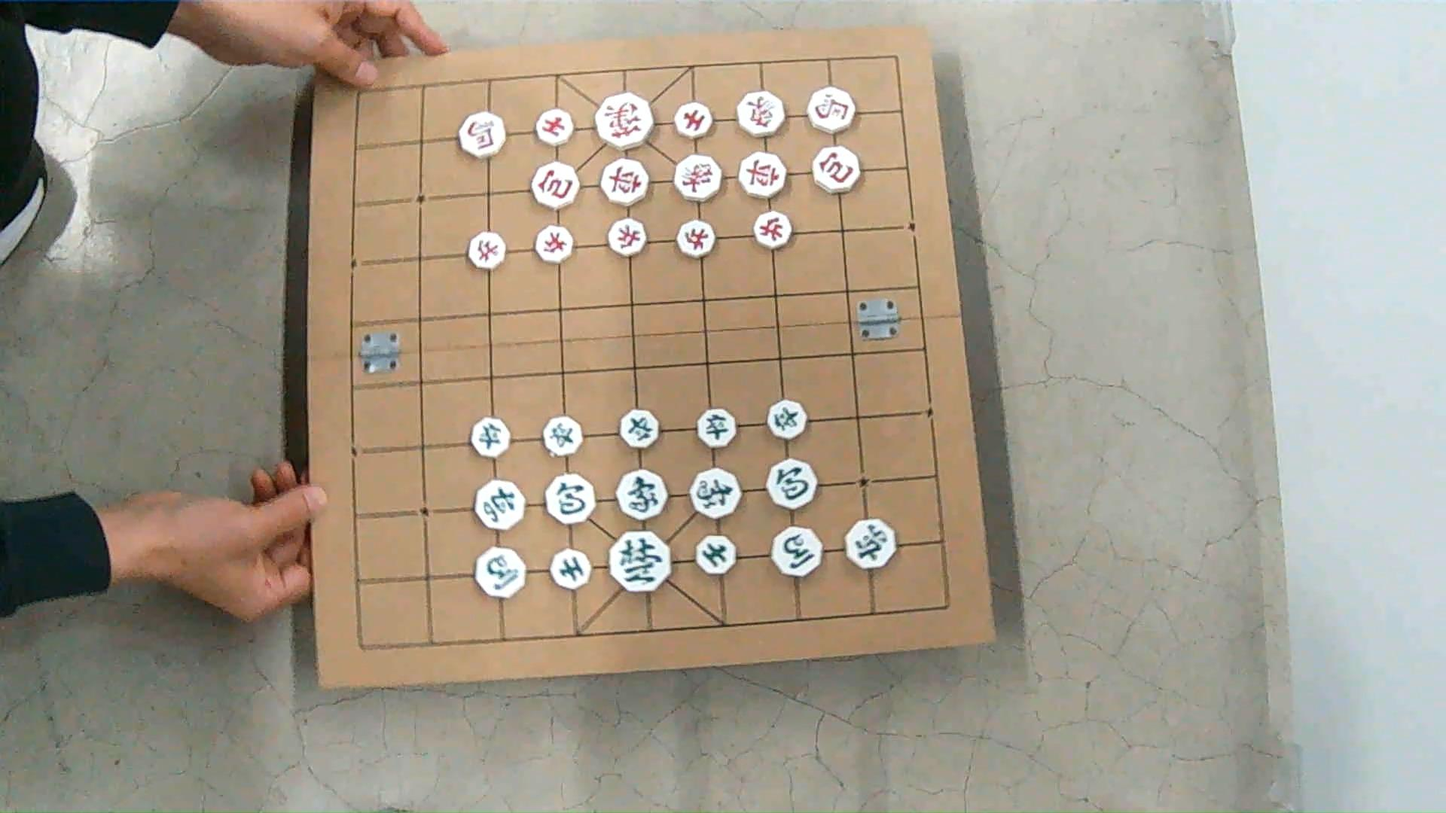cha_green: (845, 519, 895, 569), (474, 480, 524, 529)
cha_red: (600, 159, 648, 205), (739, 152, 786, 198)
jol_green: (471, 417, 510, 458), (768, 400, 806, 440), (543, 416, 581, 456), (697, 409, 735, 448), (620, 409, 658, 448)
jol_red: (754, 211, 792, 248), (467, 232, 505, 269), (535, 226, 572, 263), (609, 218, 645, 256), (678, 221, 714, 257)
ma_green: (475, 547, 524, 597), (772, 528, 821, 577)
ma_red: (808, 87, 855, 132), (459, 113, 505, 158)
po_green: (767, 459, 817, 509), (546, 474, 594, 524)
po_red: (813, 146, 859, 193), (532, 163, 578, 209)
sa_green: (551, 550, 590, 589), (697, 535, 735, 574)
sa_red: (535, 109, 573, 146), (675, 102, 712, 139)
sang_green: (690, 468, 740, 519), (616, 470, 667, 520)
sang_red: (737, 91, 784, 137), (674, 155, 721, 201)
wang_green: (609, 531, 671, 592)
wang_red: (595, 93, 653, 149)
